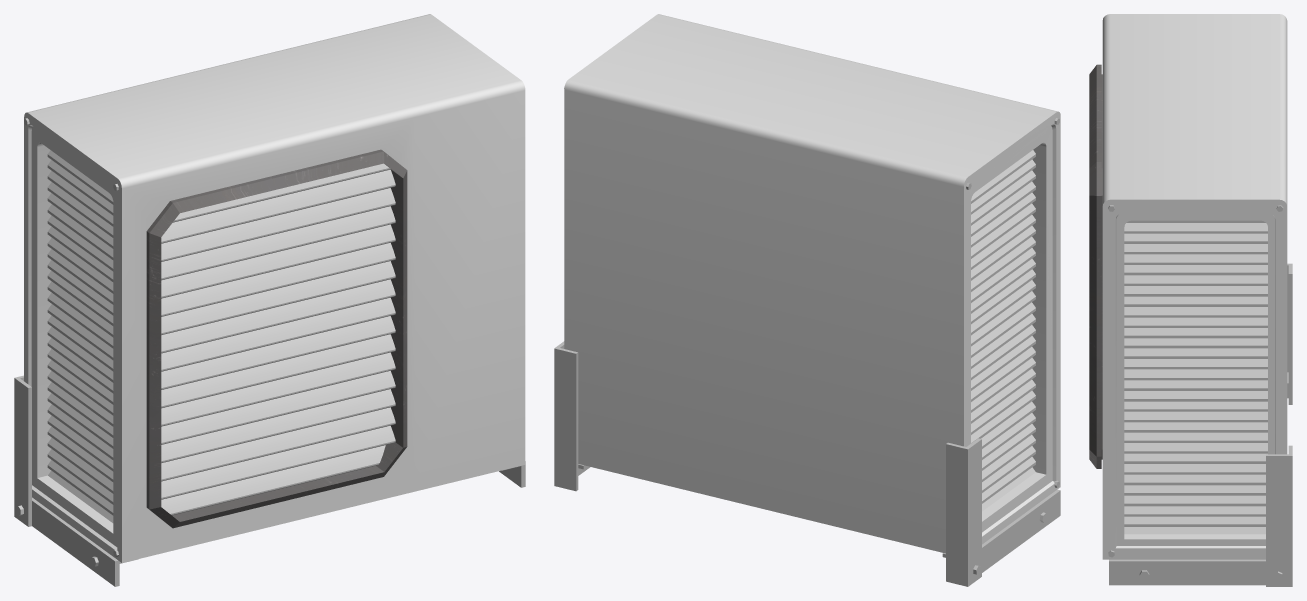
The model's file is KB3D_CBP_ACunit_W.fbx.
3 views of the same model, side by side, from view 1: azimuth 30°, elevation 25°; view 2: azimuth 150°, elevation 25°; view 3: azimuth 270°, elevation 25° (orthographic). The views are drawn at different scales.
Visible parts, largest first — view 1: KB3D_CBP_ACunit_W_Main; view 2: KB3D_CBP_ACunit_W_Main; view 3: KB3D_CBP_ACunit_W_Main.
Boxes of the visible parts, box(x1,y1,x2,y2) form: KB3D_CBP_ACunit_W_Main: box(14, 14, 525, 586); KB3D_CBP_ACunit_W_Main: box(554, 14, 1060, 586); KB3D_CBP_ACunit_W_Main: box(1089, 14, 1292, 586).
Size of the model in its own units: 213 by 195 by 93.47.
